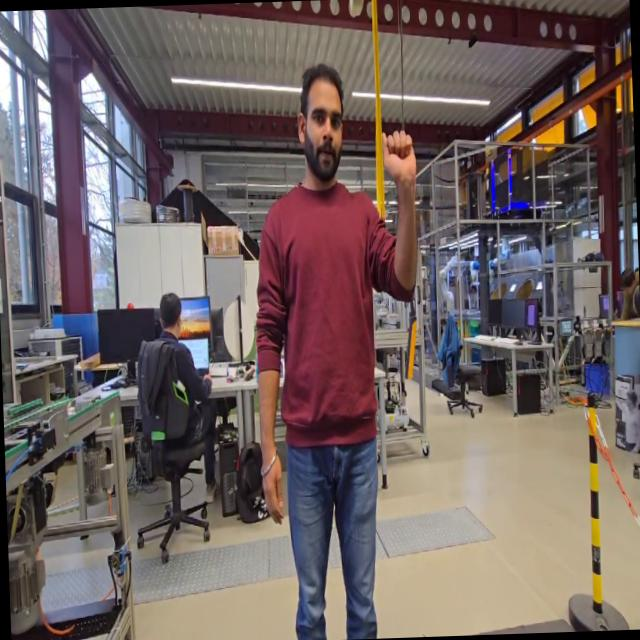closed_fist: (376, 120, 421, 192)
